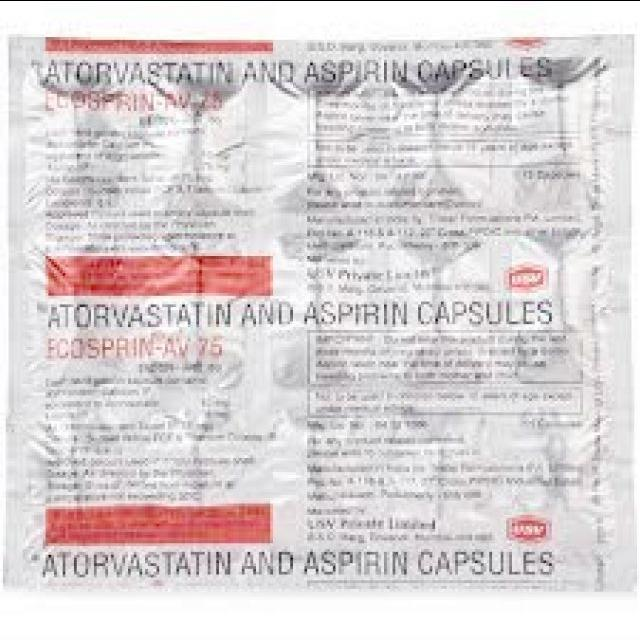authentic: (0, 28, 640, 604)
